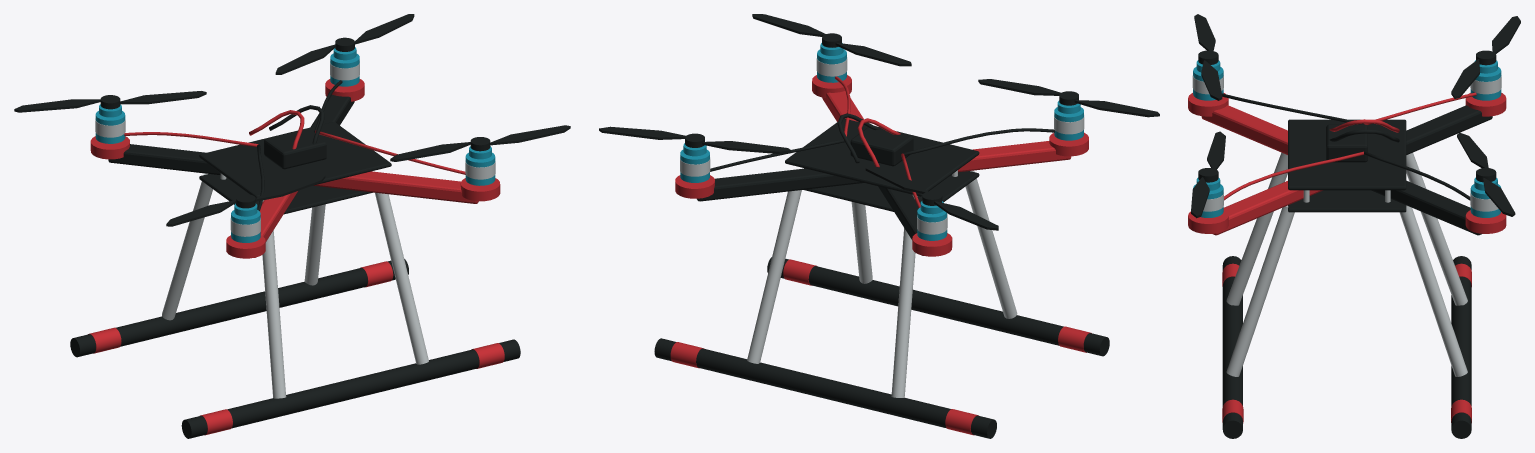
3 renders of one model, left to right at view 1: azimuth 30°, elevation 25°; view 2: azimuth 150°, elevation 25°; view 3: azimuth 270°, elevation 25°, orthographic. The views are drawn at different scales.
Parts seen in each view (by area): view 1: Long black landing skid, Red skid end band, Tall silver landing strut, Blue motor bell; view 2: Long black landing skid, Tall silver landing strut, Red skid end band, Blue motor bell; view 3: Long black landing skid, Tall silver landing strut, Red skid end band, Blue motor bell.
Part boxes in pixels (x1=…): Long black landing skid: x1=14, y1=14, x2=570, y2=438; Red skid end band: x1=88, y1=79, x2=504, y2=435; Tall silver landing strut: x1=95, y1=61, x2=495, y2=398; Blue motor bell: x1=95, y1=47, x2=495, y2=242; Long black landing skid: x1=599, y1=14, x2=1159, y2=438; Tall silver landing strut: x1=680, y1=57, x2=1084, y2=397; Red skid end band: x1=670, y1=75, x2=1091, y2=435; Blue motor bell: x1=680, y1=43, x2=1083, y2=240; Long black landing skid: x1=1191, y1=14, x2=1520, y2=438; Tall silver landing strut: x1=1192, y1=75, x2=1501, y2=376; Red skid end band: x1=1188, y1=92, x2=1506, y2=423; Blue motor bell: x1=1193, y1=60, x2=1501, y2=217.
Size of the model in its own units: 0.5646 by 0.3175 by 0.3932.
